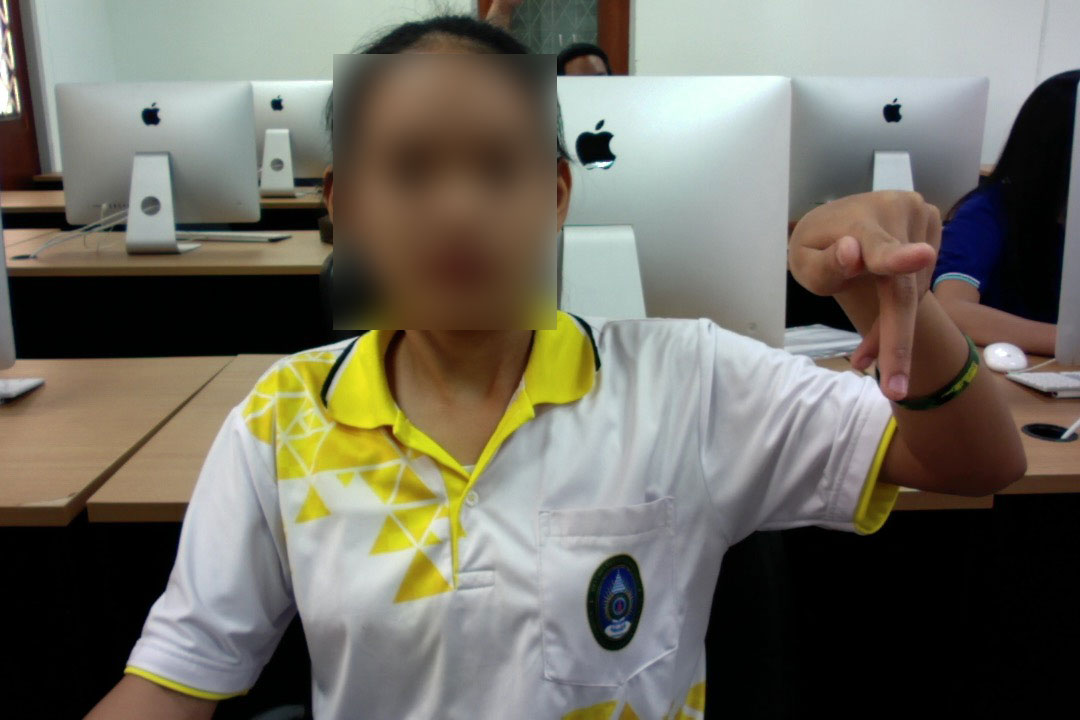por: (790, 180, 942, 406)
